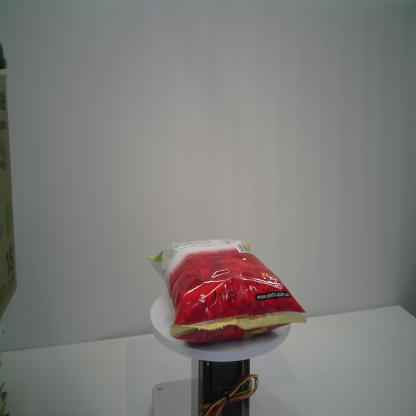Puffed Food: (147, 236, 308, 343)
